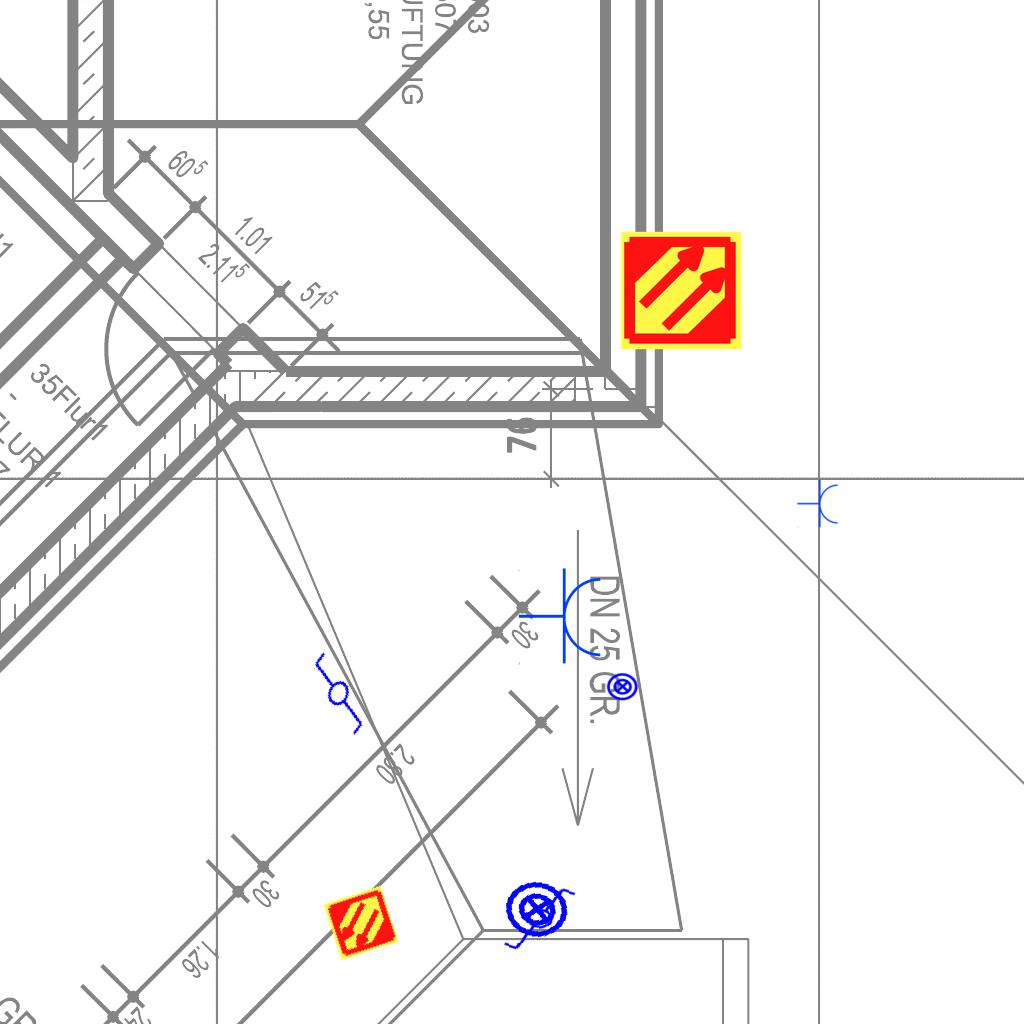ASR_Ansaugrauchmelder: (619, 228, 744, 353), (321, 883, 401, 963)
Schukosteckdose_einfach: (518, 567, 605, 667), (797, 479, 840, 529)
Taster_beleuchtet: (499, 871, 575, 947), (606, 670, 639, 703)
Wechselschalter: (293, 640, 389, 740), (501, 880, 587, 960)
